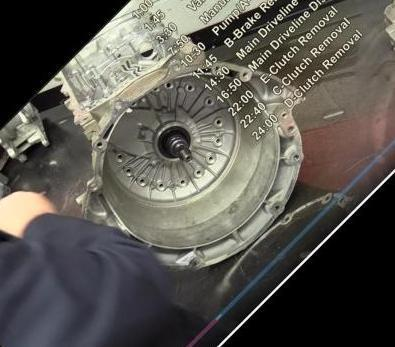hole: (92, 138, 106, 151), (284, 121, 297, 134), (271, 201, 282, 213)
